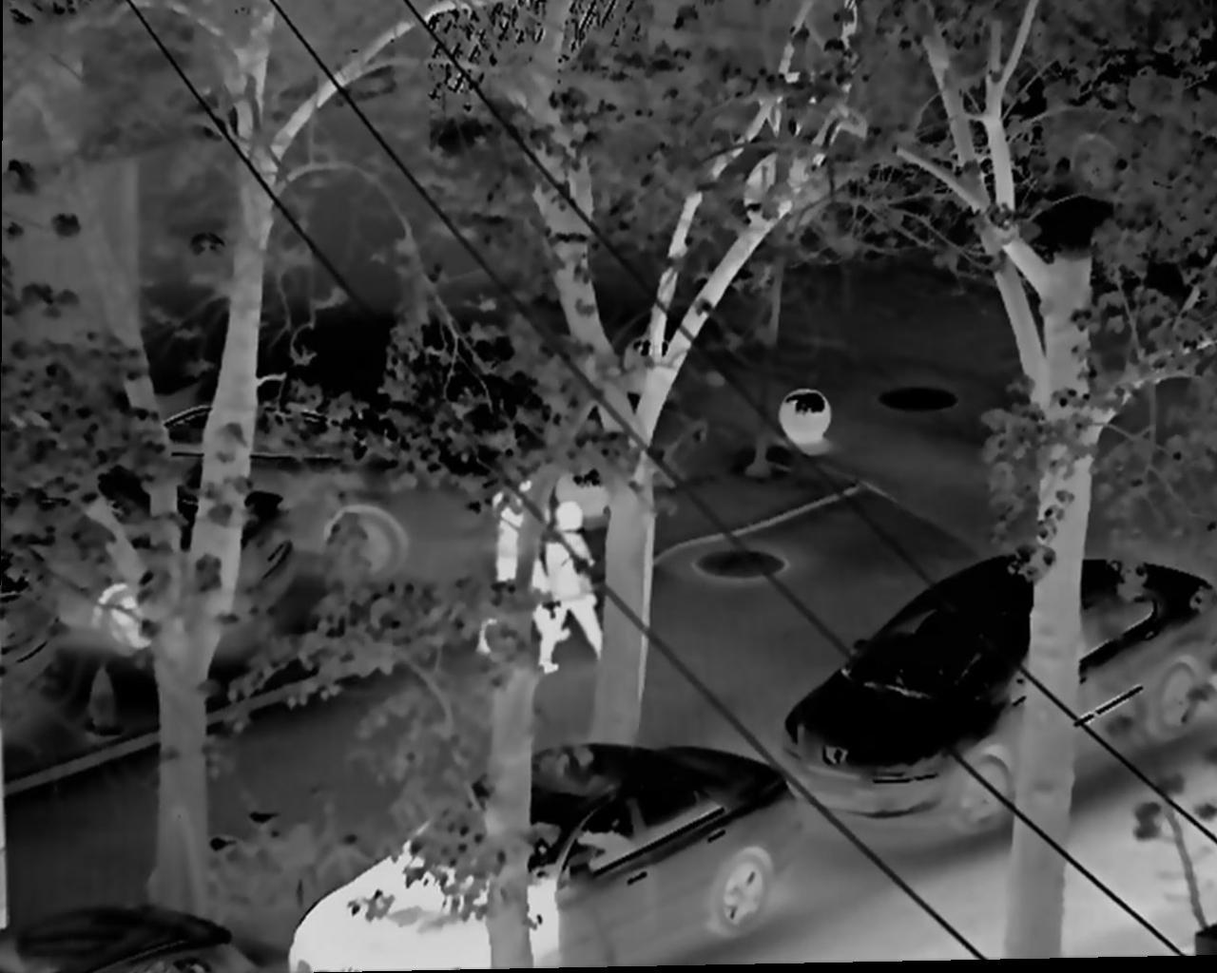person: (480, 465, 552, 667), (531, 504, 611, 667)
